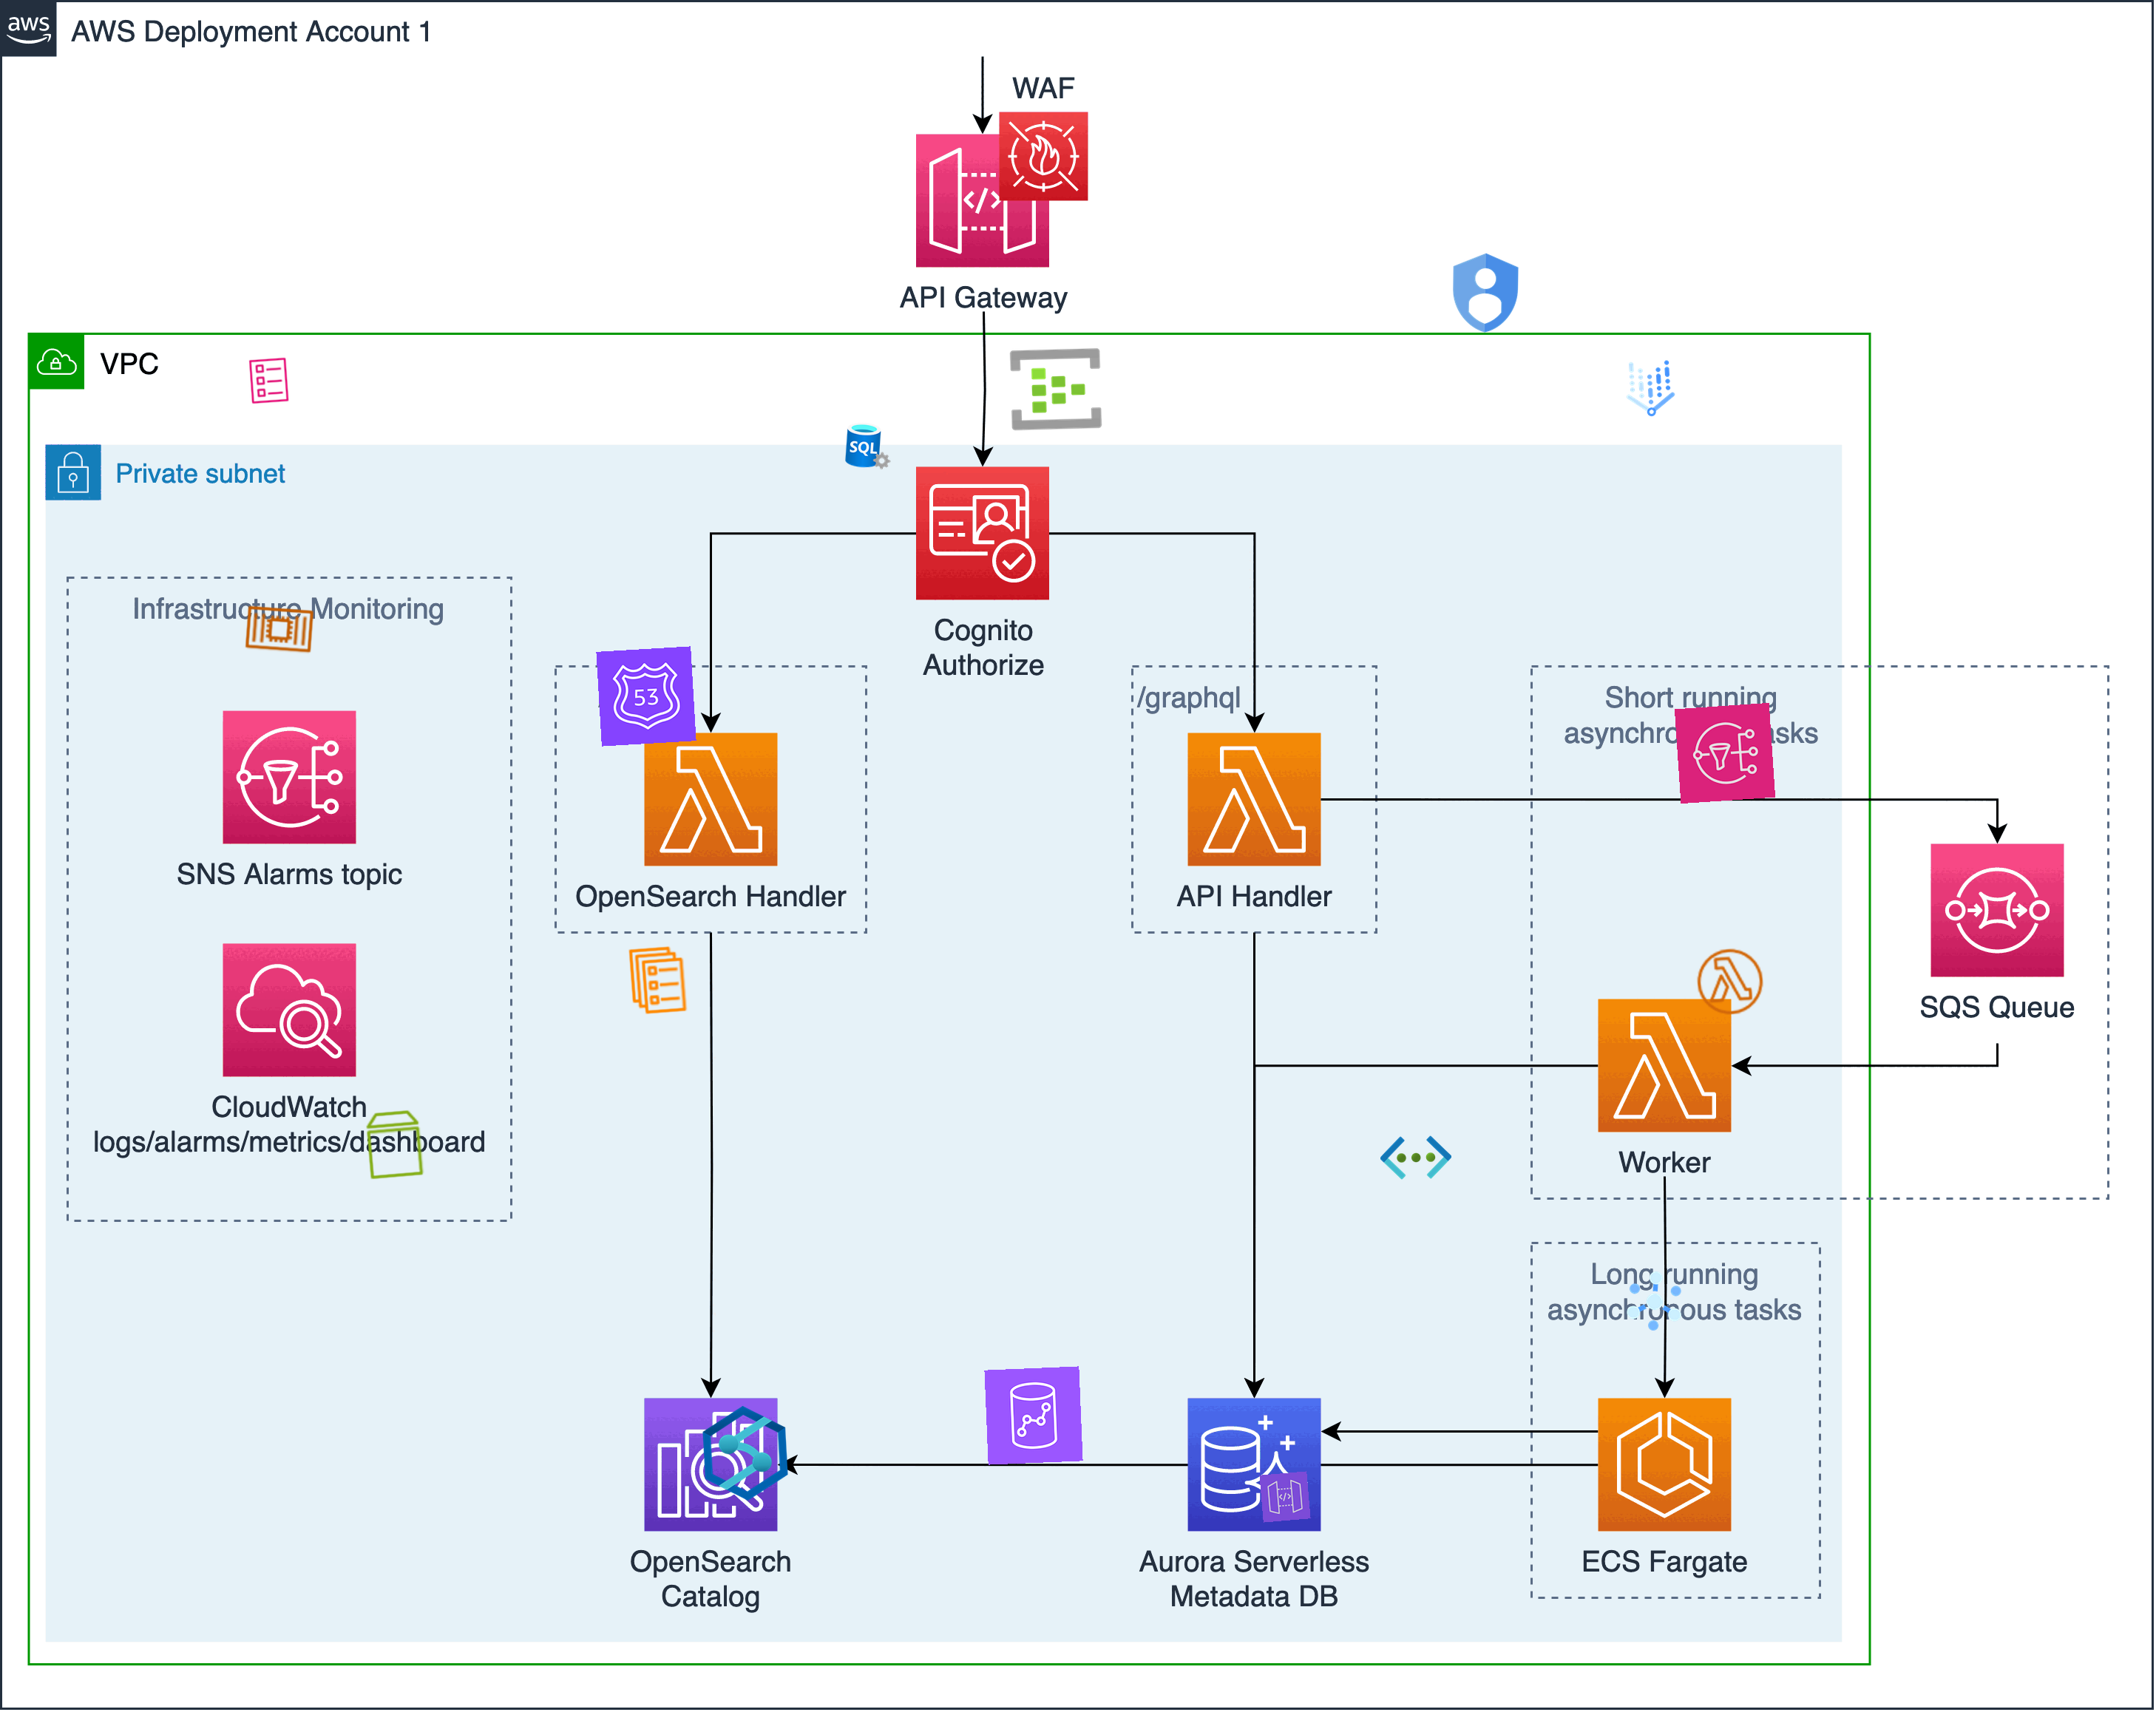aws_amazon_api_gateway: (1260, 1471, 1311, 1523)
aws_amazon_redshift: (984, 1366, 1083, 1465)
aws_amazon_route_53: (597, 645, 696, 747)
aws_amazon_simple_notification_service: (1675, 703, 1776, 804)
aws_cloudformation_template: (243, 355, 294, 406)
aws_elastic_block_store_volume: (357, 1105, 434, 1182)
aws_elastic_container_service_container_2: (241, 591, 318, 668)
aws_elastic_container_service_service: (620, 943, 696, 1018)
aws_lambda_lambda_function: (1692, 943, 1769, 1020)
azure_event_hubs: (1006, 339, 1104, 437)
azure_sql_server: (843, 420, 894, 472)
azure_synapse_analytics: (695, 1402, 796, 1504)
azure_virtual_networks: (1379, 1121, 1453, 1194)
gcp_identity_and_access_management: (1437, 243, 1535, 341)
gcp_pubsub: (1617, 1263, 1692, 1340)
gcp_vertex_ai: (1612, 351, 1689, 427)
